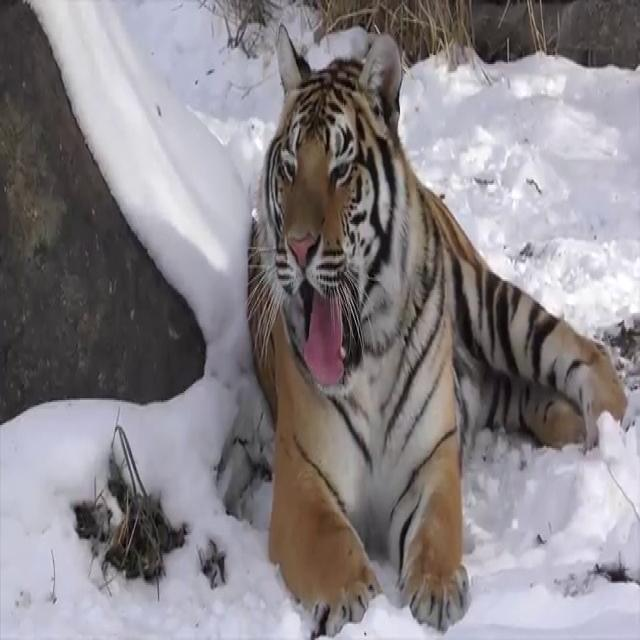tiger: (248, 21, 636, 640)
